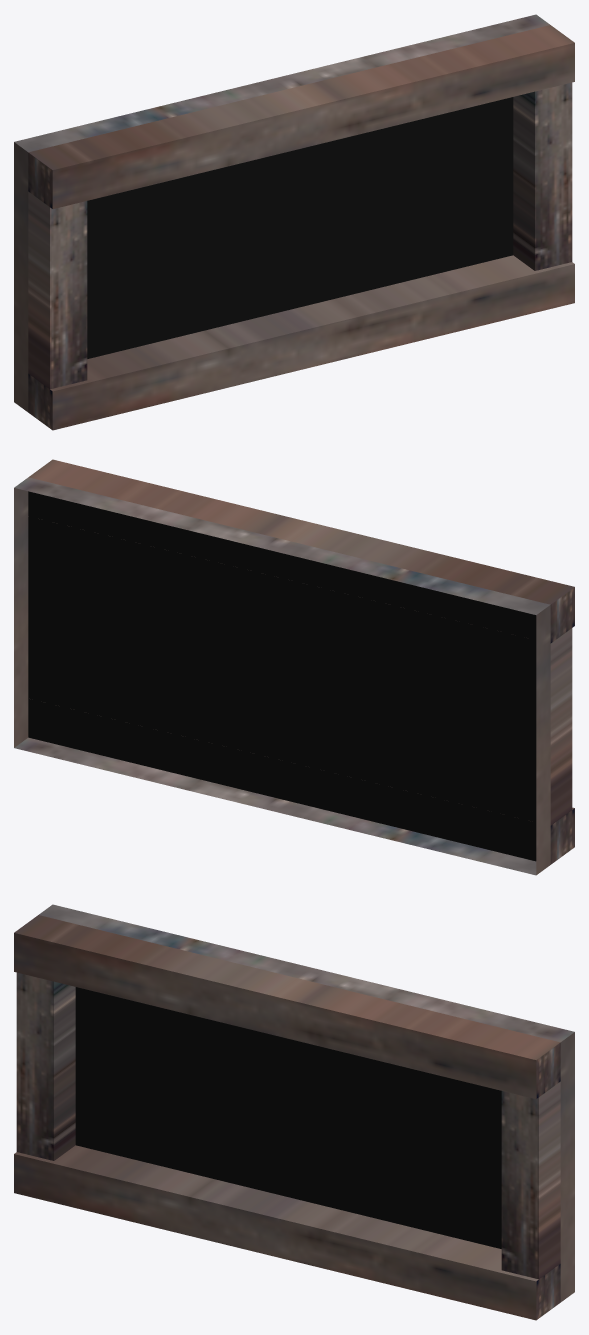
Rendered from displayTitle.fbx.
3 views of the same model, one above another, from view 1: azimuth 30°, elevation 25°; view 2: azimuth 150°, elevation 25°; view 3: azimuth 330°, elevation 25° (orthographic).
Visible parts, largest first — view 1: Cube.002, Cube.003, Cube; view 2: Cube.002, Cube.003, Cube; view 3: Cube.002, Cube.003, Cube.
Part boxes in pixels (x1,y1,x2,y2): Cube.002: (14,14,549,412); Cube.003: (28,25,574,430); Cube: (28,82,572,389); Cube.002: (14,477,550,875); Cube.003: (29,459,574,864); Cube: (550,628,572,825); Cube.002: (39,904,574,1302); Cube.003: (14,915,560,1320); Cube: (16,972,560,1279).
Size of the model in its own units: 420 by 200 by 53.95.
3 materials, 3 textured.
